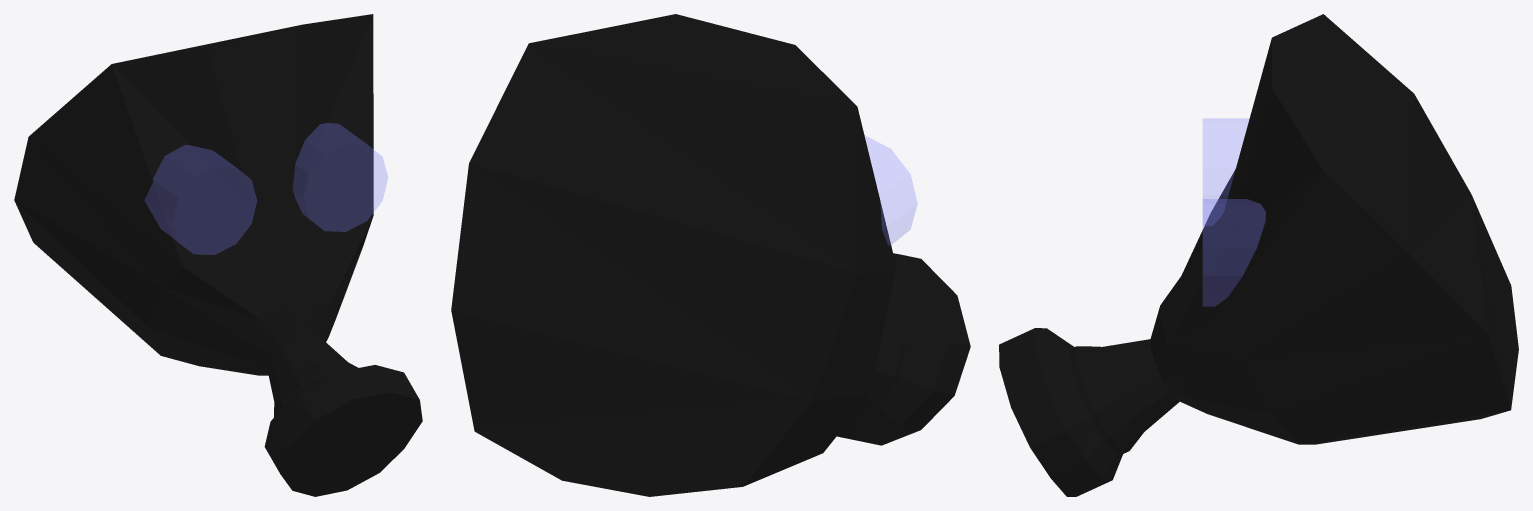
Rendered from misc-mask.glb.
3 renders of one model, left to right at view 1: azimuth 30°, elevation 25°; view 2: azimuth 150°, elevation 25°; view 3: azimuth 270°, elevation 25°, orthographic. The views are drawn at different scales.
Visible parts, largest first — view 1: node_MeshObject270007296-PolyPaper21, node_MeshObject-293323776-PolyGlass24; view 2: node_MeshObject270007296-PolyPaper21, node_MeshObject-293323776-PolyGlass24; view 3: node_MeshObject270007296-PolyPaper21, node_MeshObject-293323776-PolyGlass24.
Part boxes in pixels (x1,y1,x2,y2): node_MeshObject270007296-PolyPaper21: (14,14,422,496); node_MeshObject-293323776-PolyGlass24: (145,123,387,254); node_MeshObject270007296-PolyPaper21: (451,14,970,496); node_MeshObject-293323776-PolyGlass24: (865,136,917,245); node_MeshObject270007296-PolyPaper21: (999,14,1518,496); node_MeshObject-293323776-PolyGlass24: (1202,118,1265,306).
Size of the model in its own units: 0.7402 by 0.8832 by 0.9611.
